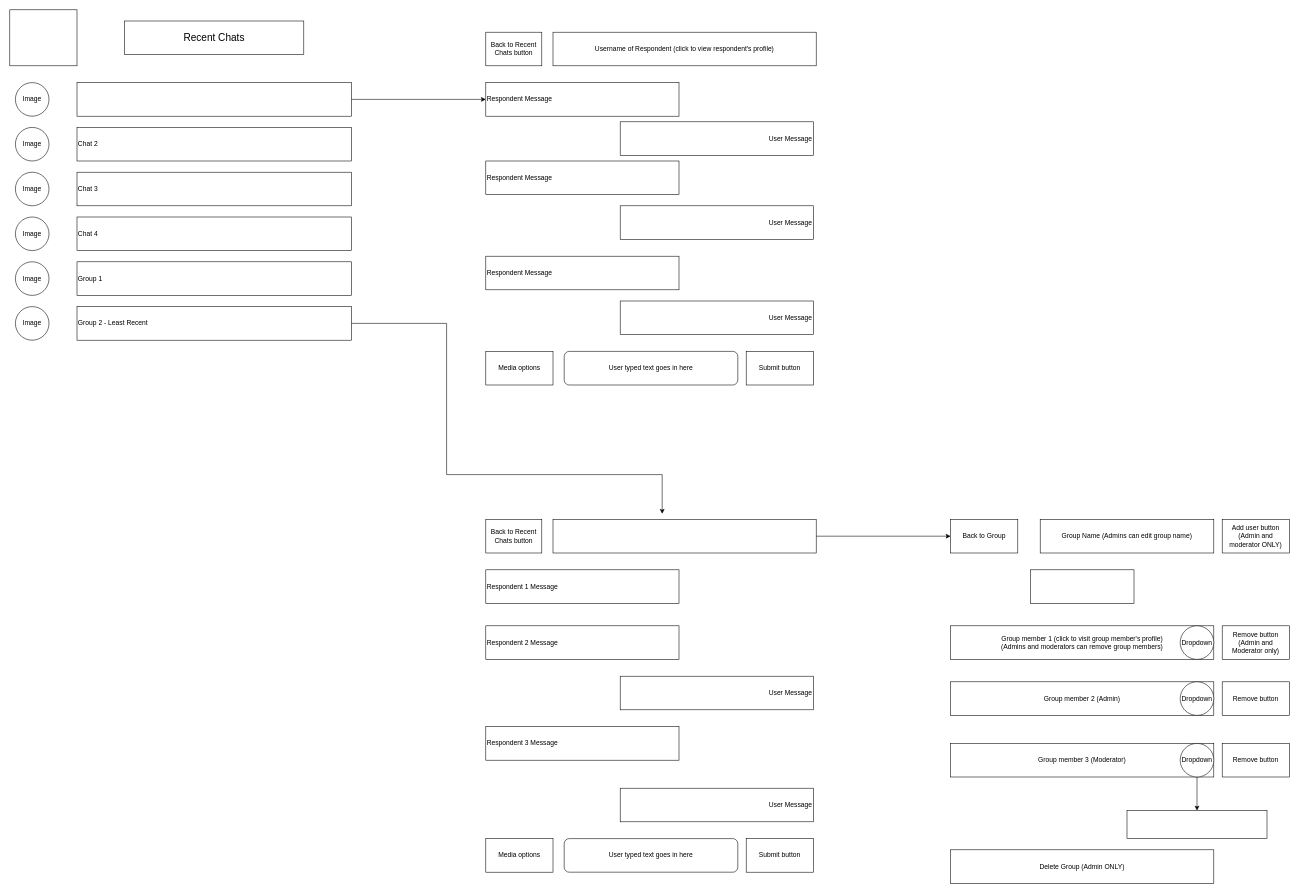
Image size: 1299x893. Some labels were removed from this diagram. The centre of each missing label's shape, as x and y in pixels:
Change privilege status (user, admin, moderator) Admin ONLY: pixel 1196 824
Chat 1- Most Recent: pixel 213 99
Group Name (click to view group settings): pixel 684 536
Hamburger Menu: Recent Chats Profile Recommendations General Help: pixel 43 37
Modify Tags (dropdown or different page): pixel 1082 586
